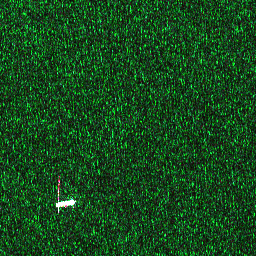ship: (54, 196, 77, 210)
